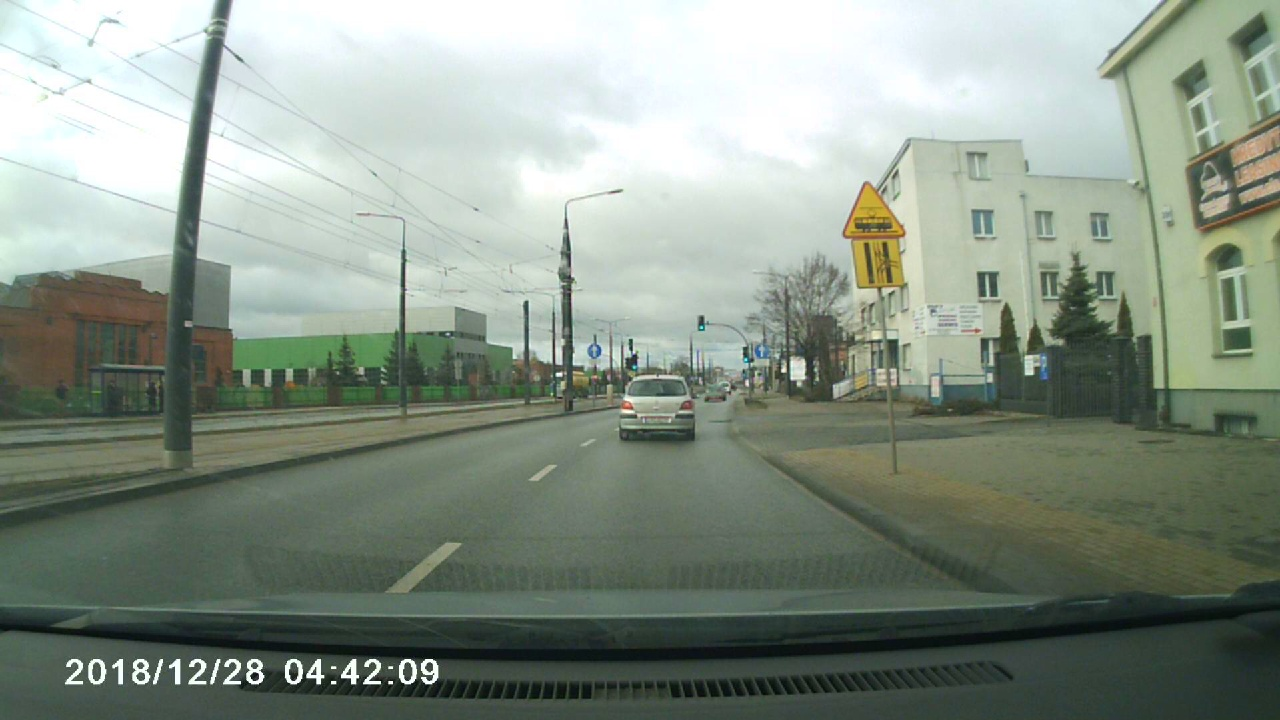A21: (840, 179, 906, 240)
C5: (585, 342, 602, 358), (754, 344, 768, 358)
